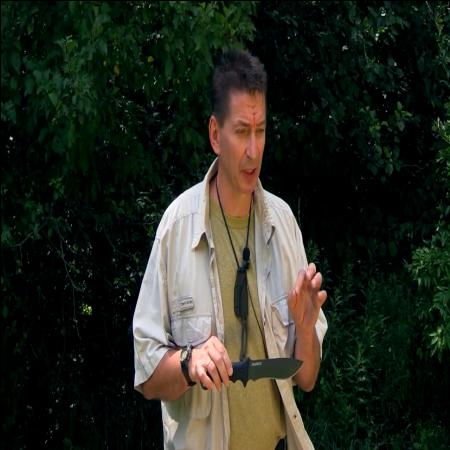long weapon: (197, 332, 304, 392)
